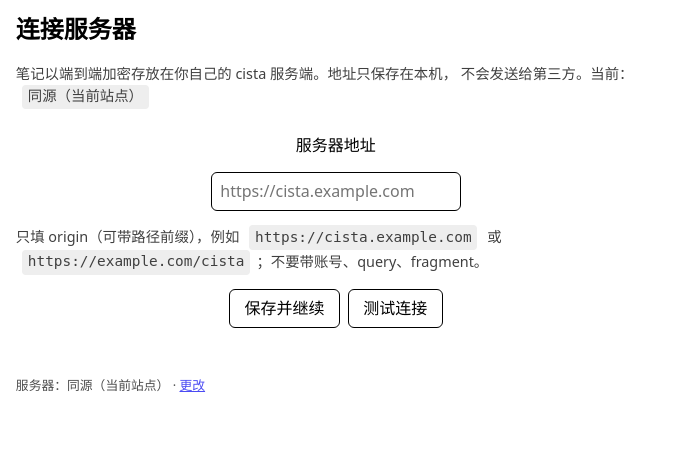
Test: 原生端首次启动 › 非法地址不保存，并显示错误
In the field labelled "服务器地址": (336, 191) [210,172,461,211], type "ftp://nope.example"
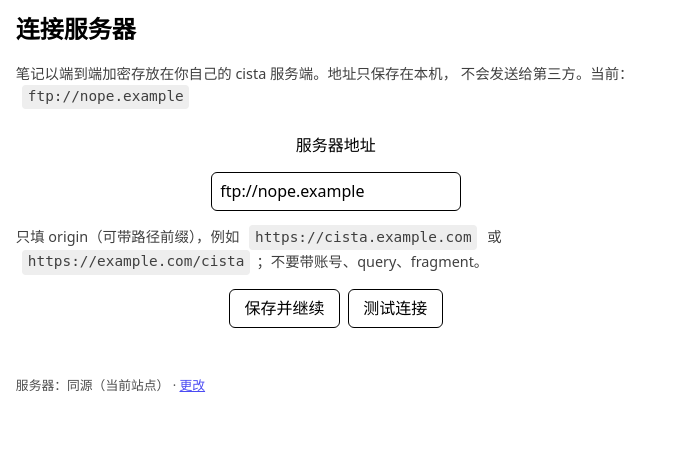
Click the button "保存并继续": click(284, 308) [229,289,340,328]
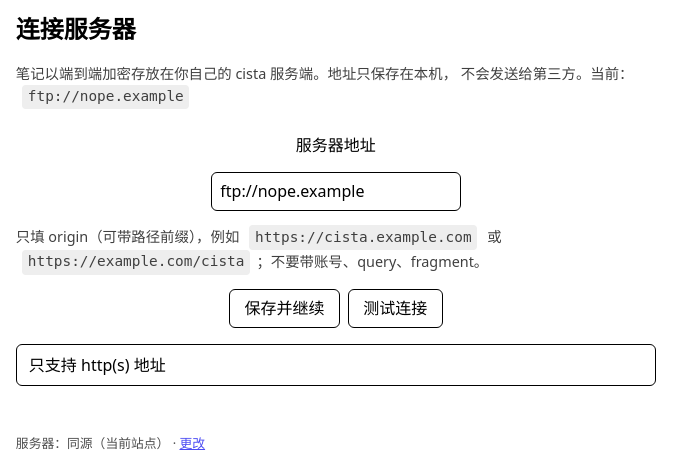
Now the message reads "只支持 http(s) 地址", box [29,354,166,376]
